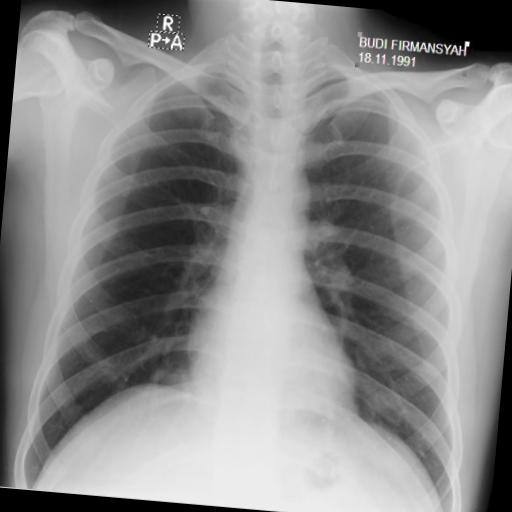normal: (11, 14, 505, 512)
